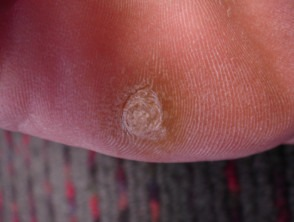Warts: (112, 76, 174, 148)
